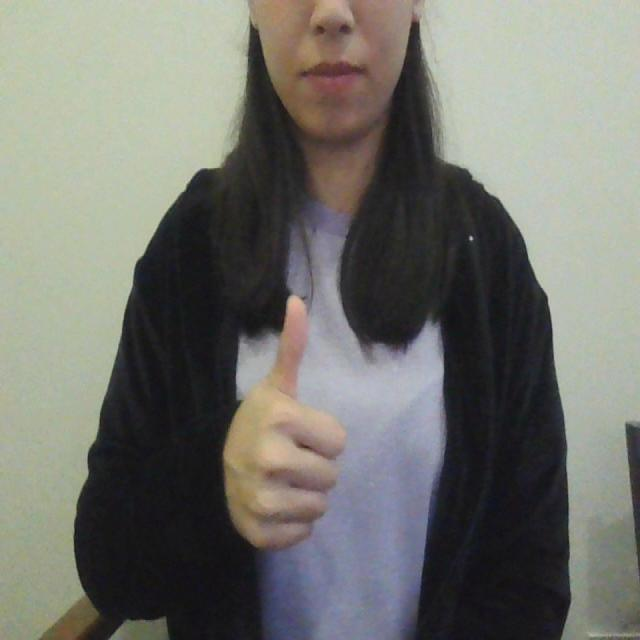Tamam: (208, 292, 354, 558)
